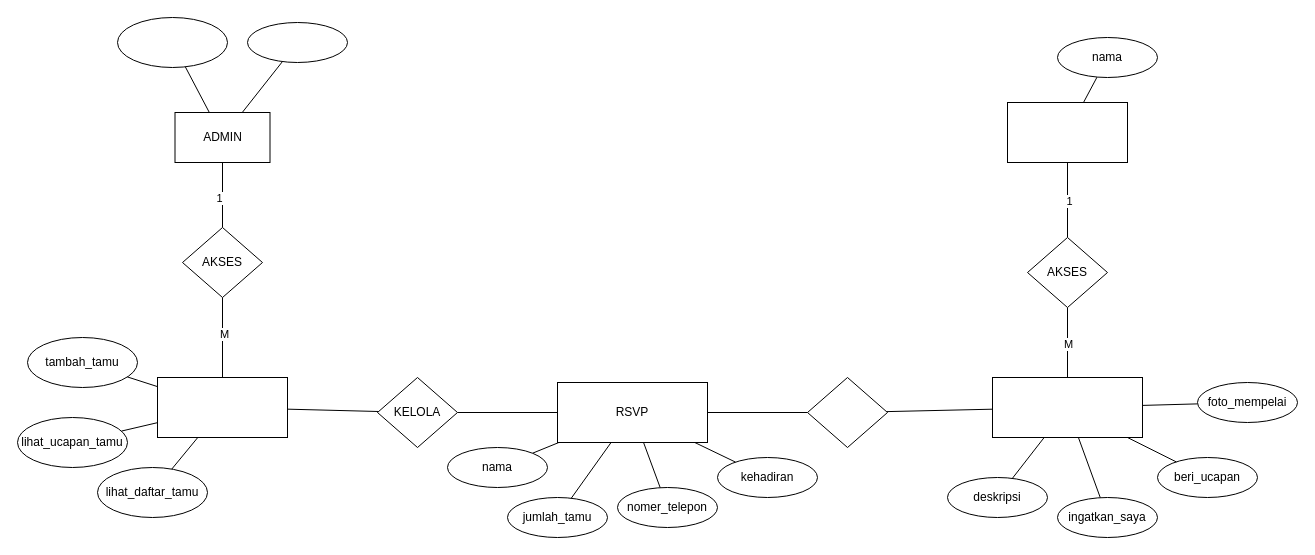
The diagram is 1315 pixels wide and 555 high, and some of its shapes have lost their labels. The box of each missing label's shape, as (x1, y1, x2, y2) in pixels:
DASHBOARD_ADMIN: (156, 376, 288, 438)
HALAMAN_UNDANGAN: (992, 376, 1142, 438)
MILIKI: (806, 376, 888, 448)
password_admin: (116, 16, 228, 68)
TAMU: (1006, 102, 1128, 162)
username_admin: (246, 22, 348, 62)
